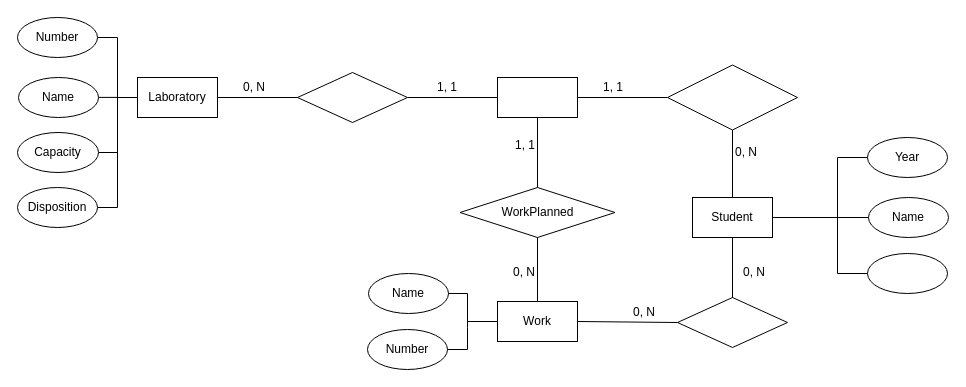
This 966x387 diagram has some shape labels left out. The shapes that lost their labels are listed below. From the top down, each one's centre as x and y in pixels, then its label:
[352,97]: InLaboratory
[537,97]: Plan
[732,97]: PlanOfStudent
[907,273]: id
[732,322]: Report
